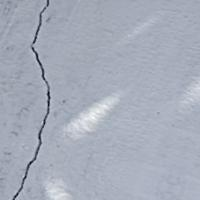crack: (0, 1, 63, 199)
